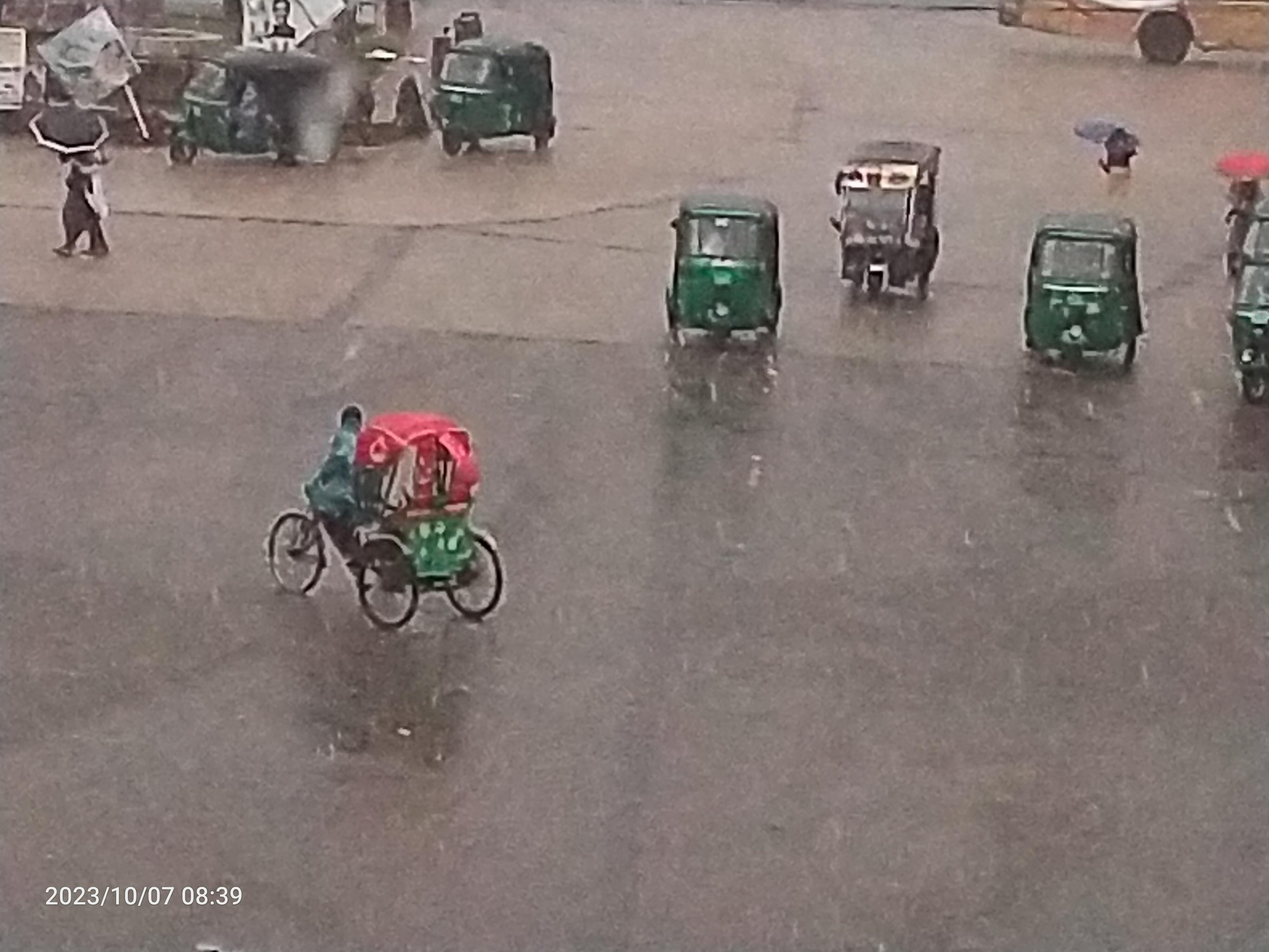Bus: (976, 0, 1269, 80)
Car: (237, 380, 555, 690), (814, 122, 965, 331)
